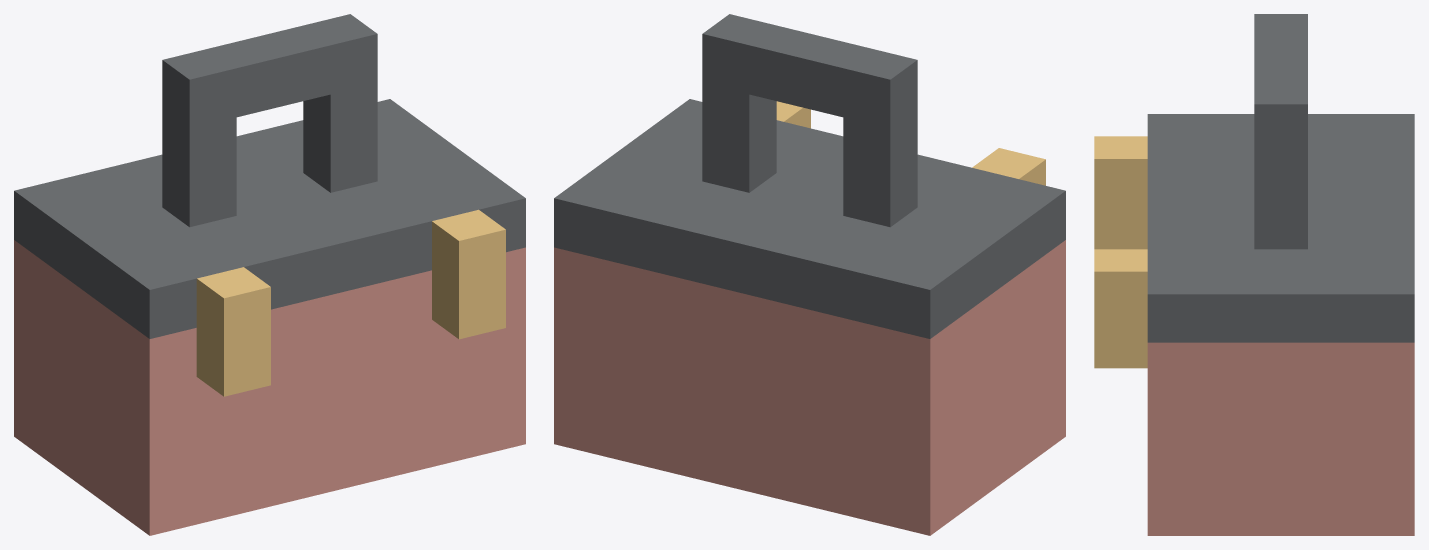
The model's file is pocket-borough-repair-toolbox__294.glb.
3 renders of one model, left to right at view 1: azimuth 30°, elevation 25°; view 2: azimuth 150°, elevation 25°; view 3: azimuth 270°, elevation 25°, orthographic.
Parts seen in each view (by area): view 1: pocket-borough-toolbox; view 2: pocket-borough-toolbox; view 3: pocket-borough-toolbox.
Boxes of the visible parts, x1,y1,x2,y2 form: pocket-borough-toolbox: [14, 14, 525, 535]; pocket-borough-toolbox: [554, 14, 1065, 535]; pocket-borough-toolbox: [1094, 14, 1414, 535].
Size of the model in its own units: 1 by 1 by 0.75.
